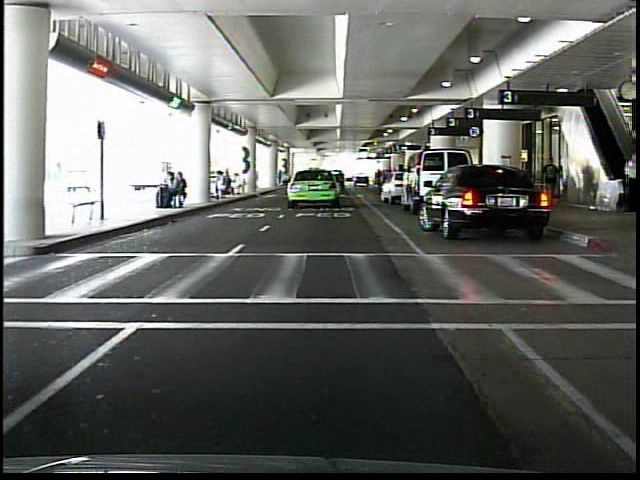person: (543, 153, 563, 194)
